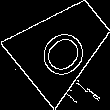O_NE: (30, 13, 95, 79)
